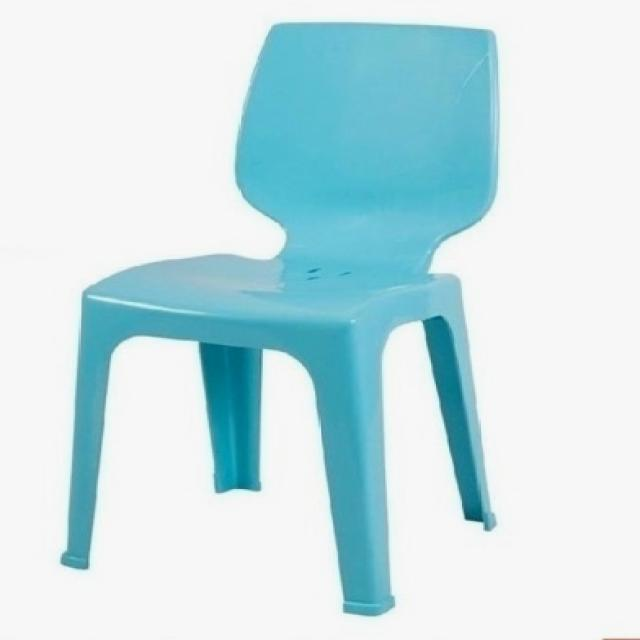Chair: (57, 16, 509, 619)
